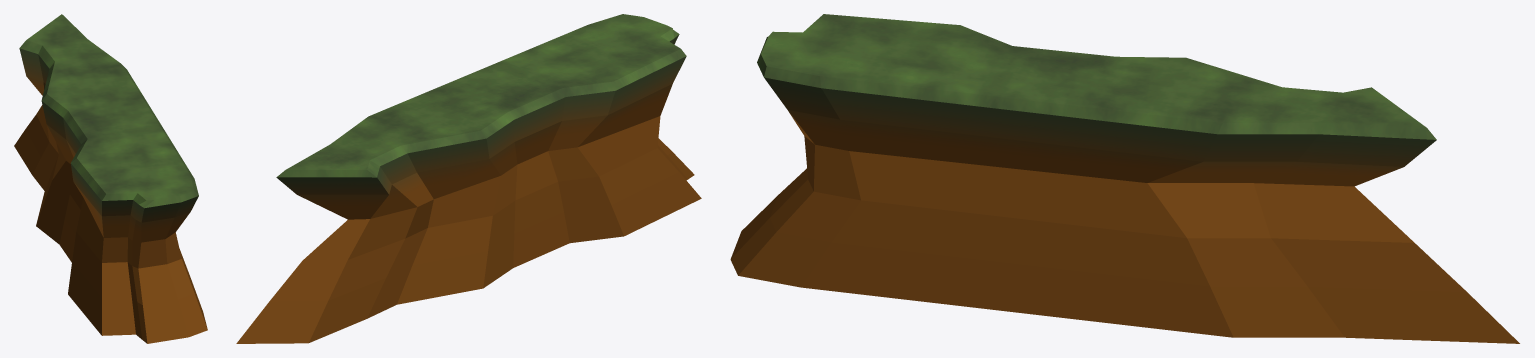
The model's file is E8_Terreno_Lvl1_T.fbx.
The picture shows the model from 3 angles, left to right: view 1: azimuth 30°, elevation 25°; view 2: azimuth 150°, elevation 25°; view 3: azimuth 270°, elevation 25°; orthographic projection. The views are drawn at different scales.
Visible parts, largest first — view 1: E8_modelosBlockout_nivel1; view 2: E8_modelosBlockout_nivel1; view 3: E8_modelosBlockout_nivel1.
Part boxes in pixels (<box>): E8_modelosBlockout_nivel1: <box>14,14,207,343</box>; E8_modelosBlockout_nivel1: <box>236,14,701,343</box>; E8_modelosBlockout_nivel1: <box>730,14,1519,343</box>.
Size of the model in its own units: 4143 by 3013 by 10457.
